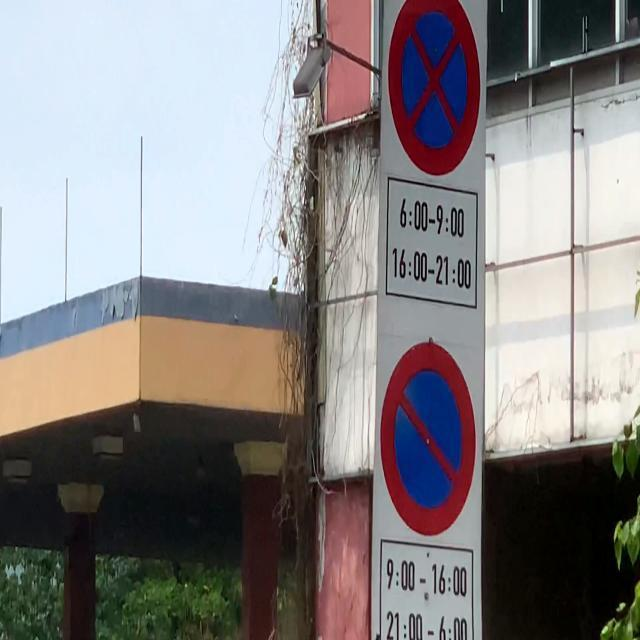130-cam-dung-va-do-xe: (384, 0, 486, 172)
131a-cam-do-xe: (377, 338, 479, 534)
